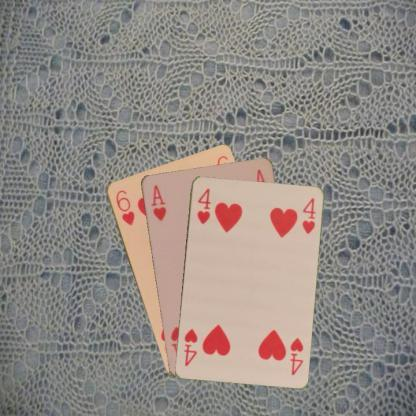4h: (286, 334, 304, 376), (194, 186, 212, 226)
6h: (112, 187, 136, 227)
Ah: (148, 182, 167, 222)
